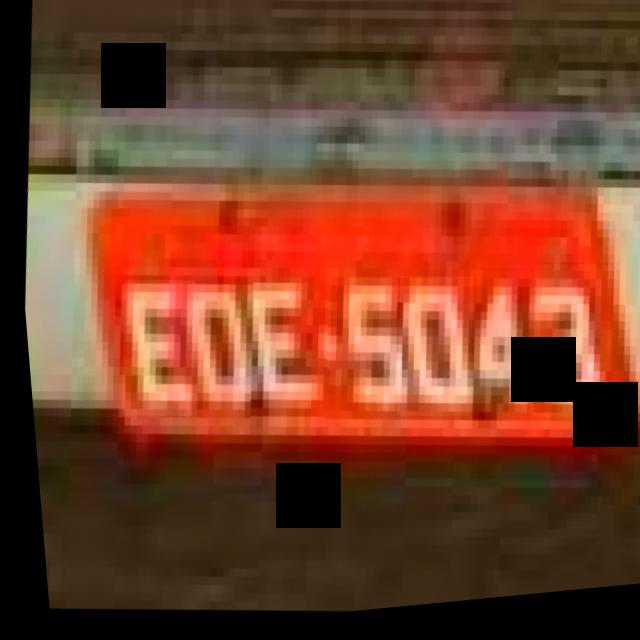0: (379, 278, 476, 430)
3: (514, 269, 616, 435)
4: (453, 273, 537, 435)
5: (321, 274, 416, 432)
E: (232, 279, 332, 437), (105, 276, 199, 424)
O: (164, 276, 263, 431)
